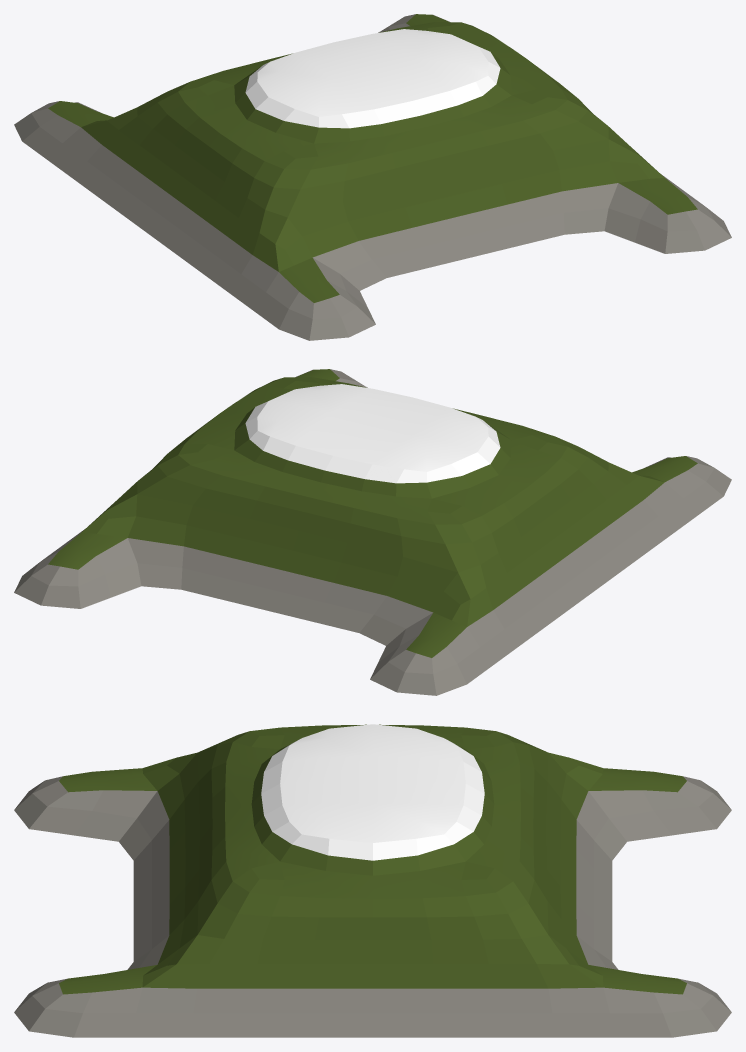
File: Island15.FBX
The picture shows the model from 3 angles, top to bottom: view 1: azimuth 30°, elevation 25°; view 2: azimuth 150°, elevation 25°; view 3: azimuth 270°, elevation 25°; orthographic projection. The views are drawn at different scales.
Parts seen in each view (by area): view 1: Plane001; view 2: Plane001; view 3: Plane001.
Boxes of the visible parts, left/top/right/bottom form: Plane001: left=14, top=14, right=731, bottom=340; Plane001: left=14, top=369, right=731, bottom=695; Plane001: left=14, top=724, right=731, bottom=1037.
Size of the model in its own units: 50 by 12.09 by 60.
